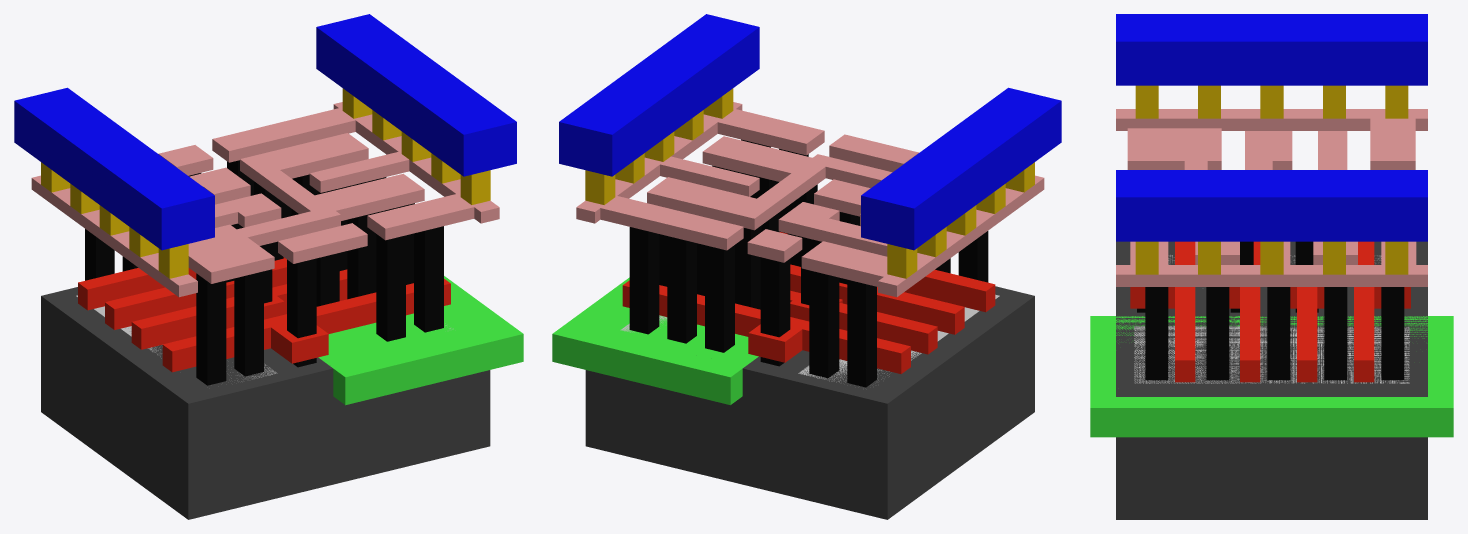
File: sky130_fd_sc_hd__nand4_1.obj
The picture shows the model from 3 angles, left to right: view 1: azimuth 30°, elevation 25°; view 2: azimuth 150°, elevation 25°; view 3: azimuth 270°, elevation 25°; orthographic projection. The views are drawn at different scales.
Parts seen in each view (by area): view 1: subs, li, metal1, licon, poly, nwell, mcon; view 2: subs, li, metal1, licon, poly, nwell, mcon, diff; view 3: metal1, subs, li, nwell, licon, poly, mcon, tap.
Boxes of the visible parts, bbox=[...] form: subs: bbox=[41, 287, 490, 519]; li: bbox=[31, 102, 499, 297]; metal1: bbox=[14, 14, 516, 250]; licon: bbox=[85, 160, 443, 385]; poly: bbox=[78, 257, 450, 372]; nwell: bbox=[318, 276, 523, 405]; mcon: bbox=[41, 88, 490, 278]; subs: bbox=[585, 286, 1034, 519]; li: bbox=[576, 102, 1044, 297]; metal1: bbox=[559, 14, 1061, 250]; licon: bbox=[629, 139, 988, 387]; poly: bbox=[622, 232, 995, 373]; nwell: bbox=[552, 277, 758, 405]; mcon: bbox=[585, 88, 1034, 278]; diff: bbox=[798, 294, 999, 382]; metal1: bbox=[1116, 14, 1427, 241]; subs: bbox=[1116, 241, 1427, 519]; li: bbox=[1116, 109, 1427, 286]; nwell: bbox=[1090, 316, 1453, 437]; licon: bbox=[1137, 241, 1404, 380]; poly: bbox=[1130, 241, 1410, 382]; mcon: bbox=[1135, 85, 1408, 274]; tap: bbox=[1134, 326, 1409, 383].
Size of the model in its own units: 3.2 by 2.74 by 2.68.
